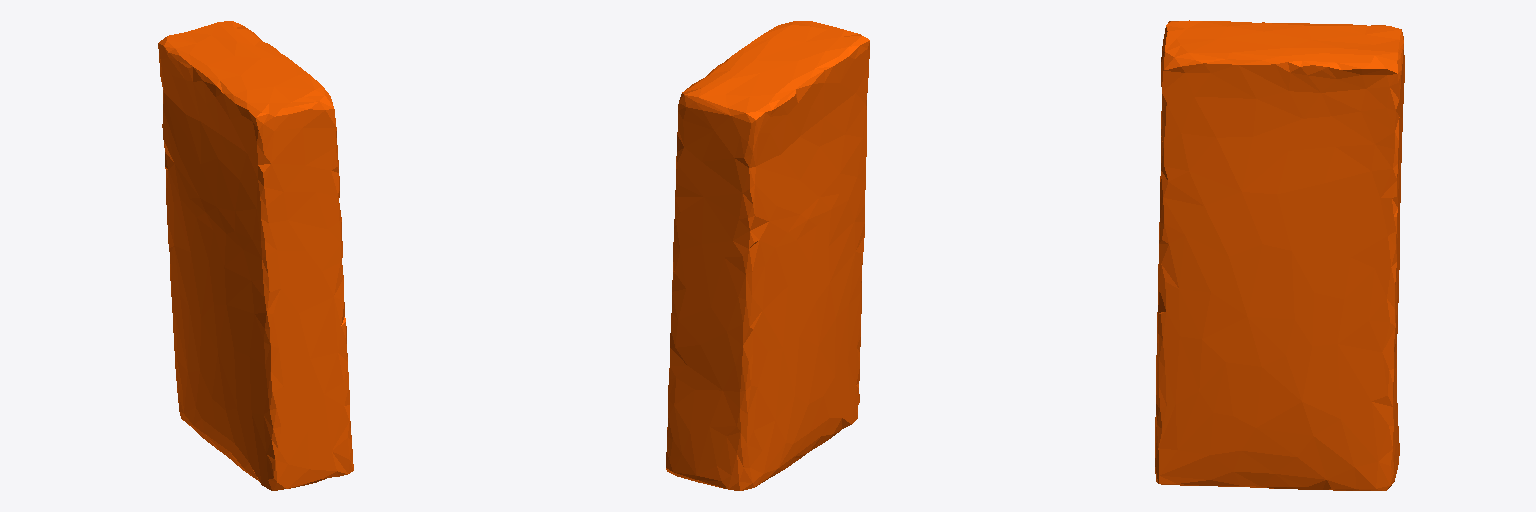
robot.urdf — 004_sugar_box:
<?xml version="1.0" ?>
<robot name="004_sugar_box">
   <material name="obj_color">
      <color rgba="1.0 0.423529411765 0.0392156862745 1.0"/>
   </material>
   <link name="top">
      <inertial>
         <origin rpy="0.0001955787323971089 0.0006559104986975186 0.0007832637456475727" xyz="0.0006318842715194182 -0.001822074067958776 -0.006310649512112782"/>
         <mass value="0.24875"/>
         <inertia ixx="0.0007821434613200934" ixy="-4.645879505842125e-06" ixz="2.331150982516821e-05" iyy="0.0006559695380546053" iyz="-8.061857716719438e-06" izz="0.0001966399773675014"/>
      </inertial>
      <visual>
         <origin rpy="0 0 0" xyz="0 0 0"/>
         <geometry>
            <mesh filename="top_watertight_tiny.stl" scale="1 1 1"/>
         </geometry>
         <material name="obj_color"/>
      </visual>
      <collision>
         <origin rpy="0 0 0" xyz="0 0 0"/>
         <geometry>
            <mesh filename="top_watertight_tiny.obj" scale="1 1 1"/>
         </geometry>
      </collision>
   </link>
   <link name="bottom">
      <inertial>
         <origin rpy="1.633333333199431e-08 1.633333333199431e-08 1.633333333362855e-08" xyz="0.3464080000000008 0.3464080000000008 0.3464080000000008"/>
         <mass value="0.0009800000000000017"/>
         <inertia ixx="1.633333333253906e-08" ixy="5.447480642029219e-19" ixz="5.447480642029219e-19" iyy="1.633333333253906e-08" iyz="5.447480642029219e-19" izz="1.633333333253906e-08"/>
      </inertial>
      <visual>
         <origin rpy="0 0 0" xyz="0 0 0"/>
         <geometry>
            <mesh filename="bottom_watertight_tiny.stl" scale="1 1 1"/>
         </geometry>
         <material name="obj_color"/>
      </visual>
   </link>
   <link name="world"/>
   <joint name="world_to_base" type="fixed">
      <origin xyz="0 0 0"/>
      <axis xyz="0 0 0"/>
      <parent link="world"/>
      <child link="bottom"/>
   </joint>
   <joint name="rotation" type="revolute">
      <origin xyz="0 0 0"/>
      <axis xyz="0 0 -1"/>
      <parent link="bottom"/>
      <child link="top"/>
      <dynamics damping="1.0" friction="1.0"/>
      <limit effort="0.1" velocity="0.1" lower="0" upper="0.001"/>
   </joint>
</robot>

--- Render facts (derived) ---
The picture shows the robot from 3 angles, left to right: view 1: azimuth 30°, elevation 25°; view 2: azimuth 150°, elevation 25°; view 3: azimuth 270°, elevation 25°; orthographic projection.
Robot: 004_sugar_box — 3 links, 2 joints (1 revolute, 1 fixed); root link world; default pose: every joint at zero.
Visible links, largest first — view 1: top; view 2: top; view 3: top.
Link boxes in pixels (x1,y1,x2,y2): top: (158, 21, 353, 490); top: (666, 21, 869, 490); top: (1155, 20, 1404, 490).
Size in the robot's own frame: 0.0491 by 0.0939 by 0.1759 metres.
Meshes: 2 distinct files referenced, 1 mesh visuals loaded (1 binary STL); not drawn: 1 (reference not matched to a file when rendering).